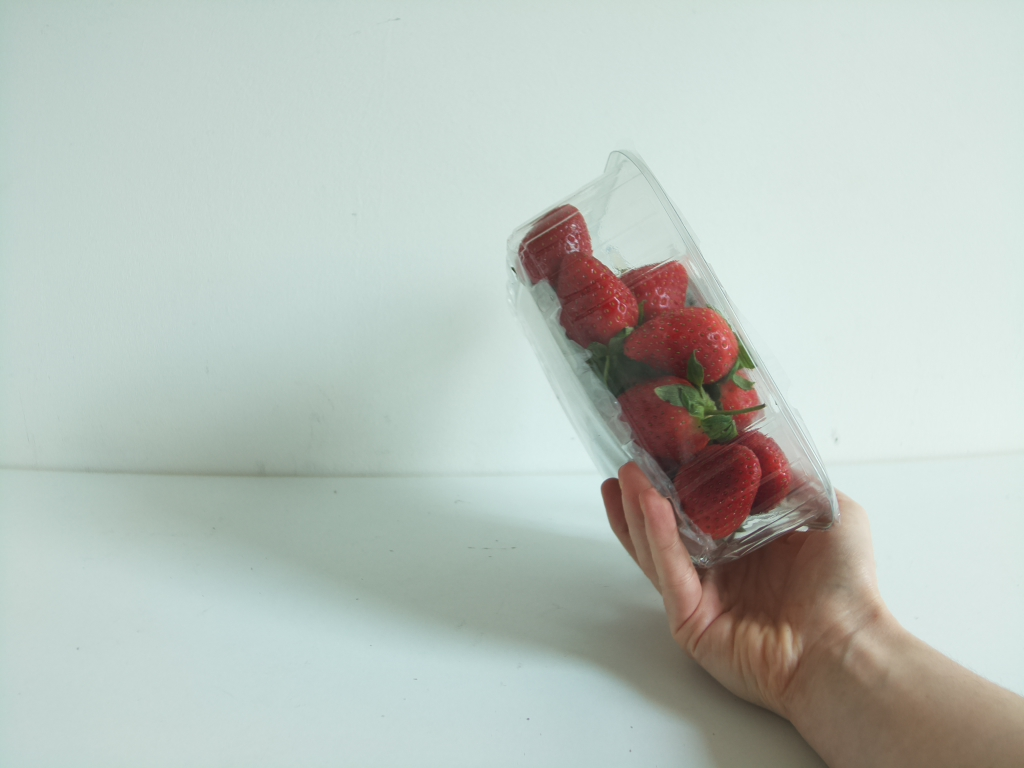soft-fruit: (501, 149, 847, 570)
